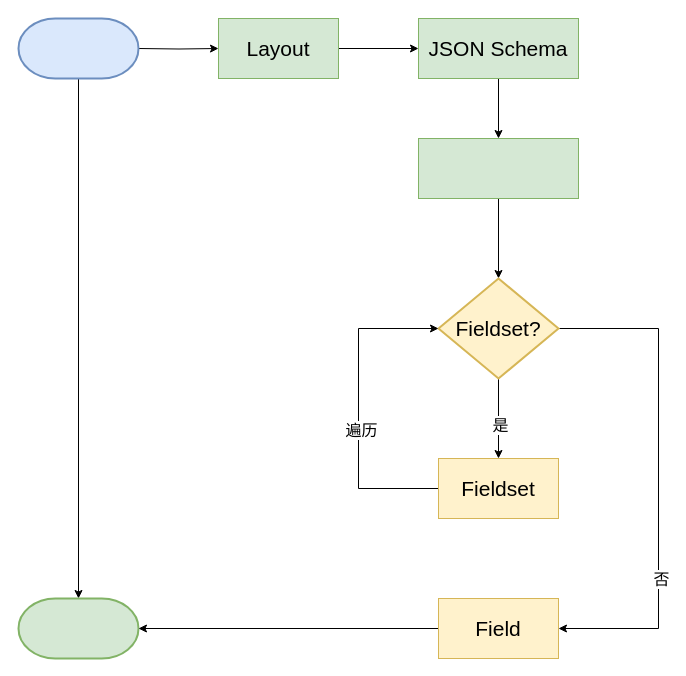
Some shapes in this 686 by 676 pixel diagram are drawn without their labels. The shapes that lost their labels are listed below. From the top down, each one's box as (x1, y1, x2, y2) in pixels, then its label:
(17, 17, 139, 79): Form
(418, 138, 578, 198): Form Schema
(17, 597, 139, 659): Model
